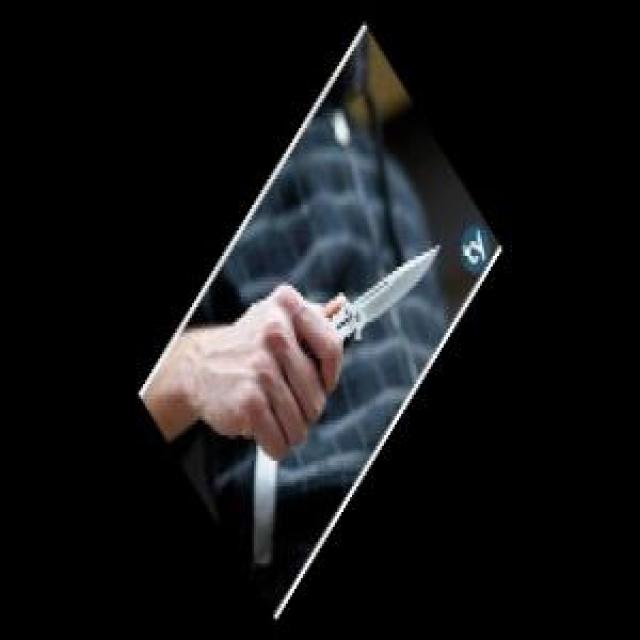knife: (296, 239, 446, 373)
